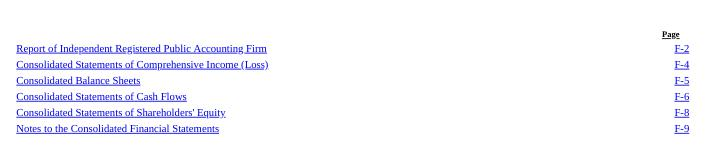table: (15, 28, 688, 133)
table column: (15, 28, 464, 133), (464, 28, 688, 133)
table column header: (15, 28, 688, 39)
table row: (15, 39, 688, 55), (15, 55, 688, 71), (15, 71, 688, 87), (15, 87, 688, 103), (15, 103, 688, 119), (15, 119, 688, 133), (15, 28, 688, 39)
